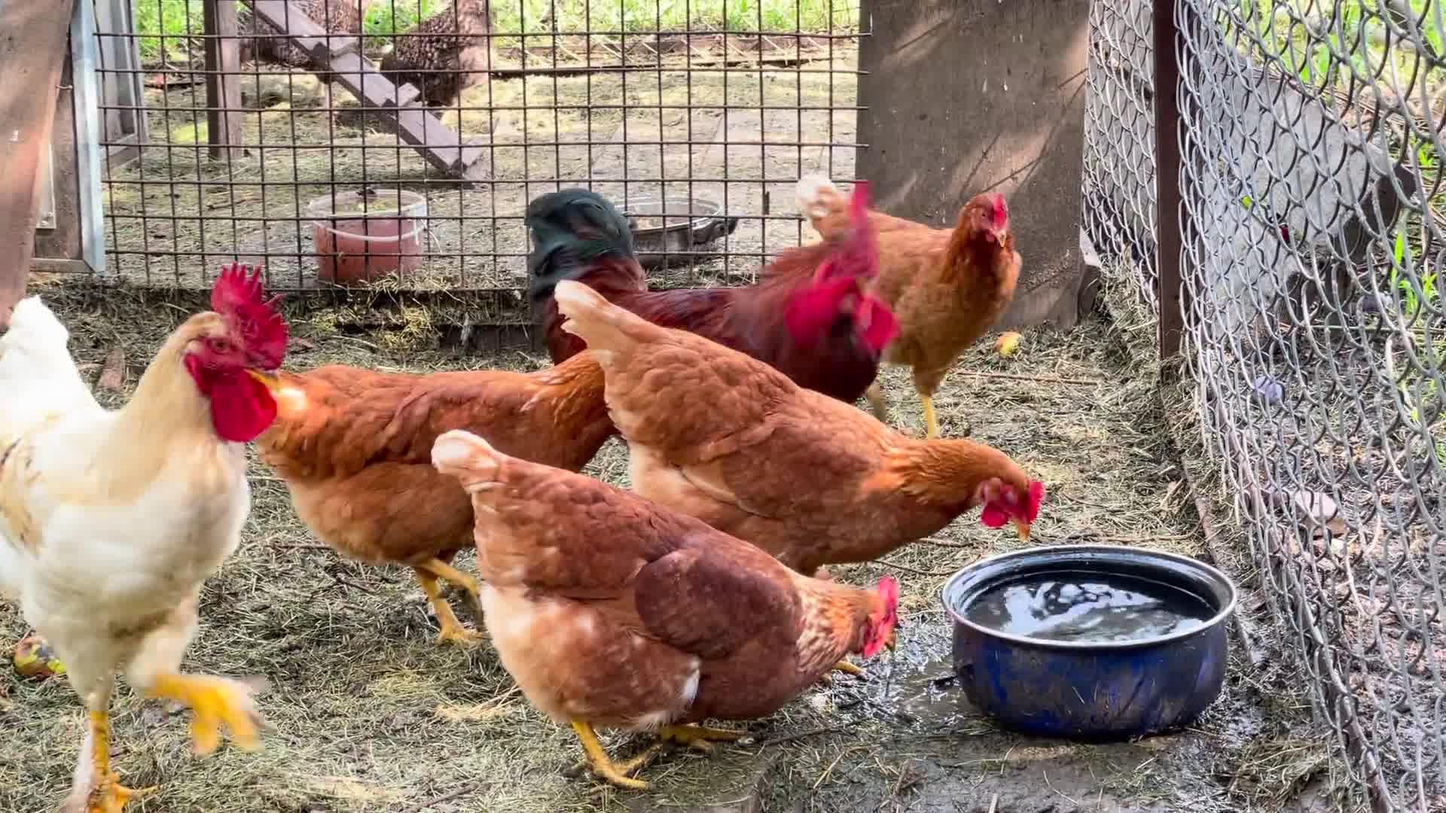Normal: (433, 428, 917, 794), (4, 271, 296, 813), (554, 281, 1051, 571), (275, 360, 625, 648), (518, 183, 915, 392), (812, 183, 1040, 434)
